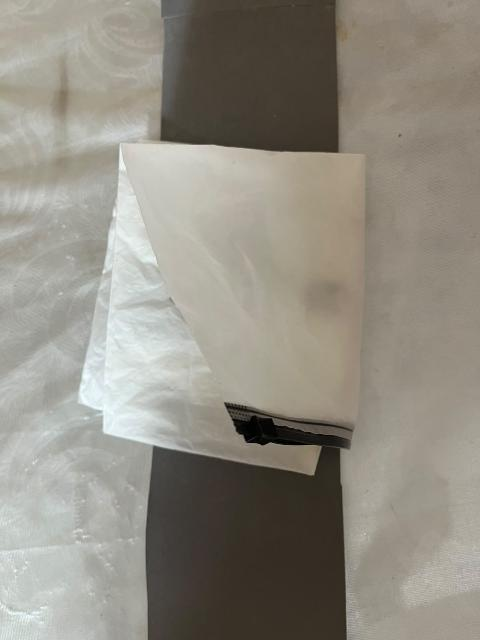LDPE: (64, 94, 403, 503)
